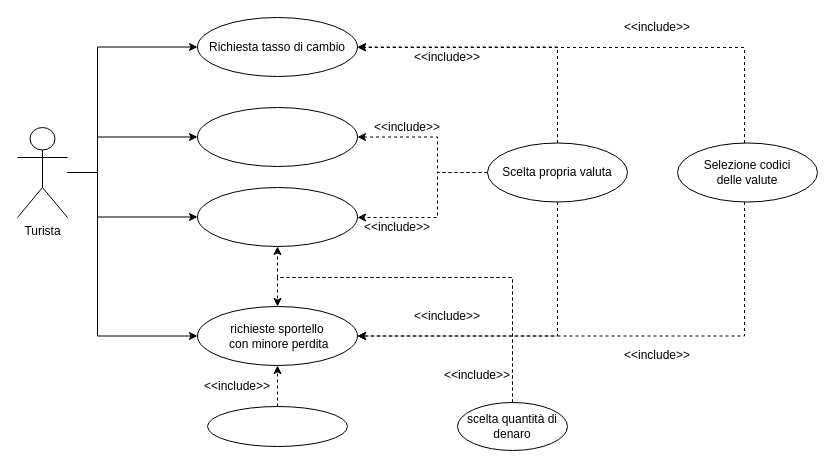
This 835x468 diagram has some shape labels left out. The shapes that lost their labels are listed below. From the top down, each one's centre as x and y in pixels, then its label:
At point (277, 136): "richieste statistiche sulla valuta".
At point (277, 216): "richiesta perdita durante il cambio".
At point (277, 426): "Scelta date".
